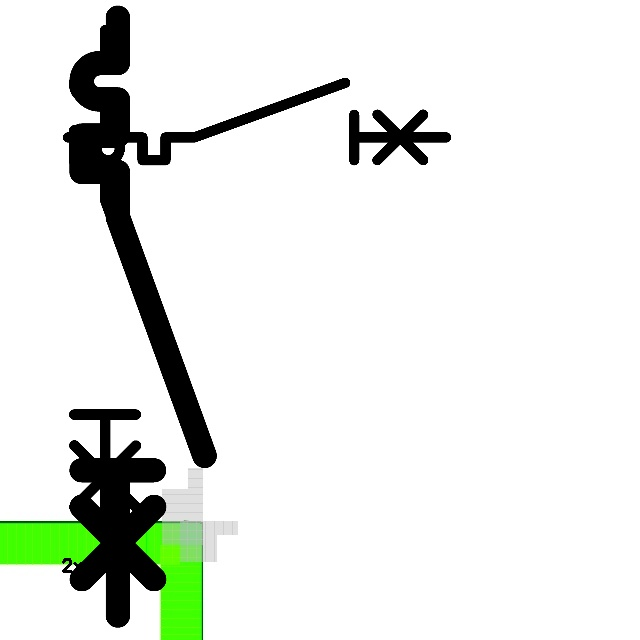interruptor_termomagnetico: (66, 2, 220, 630), (61, 17, 191, 550), (58, 73, 455, 170)
